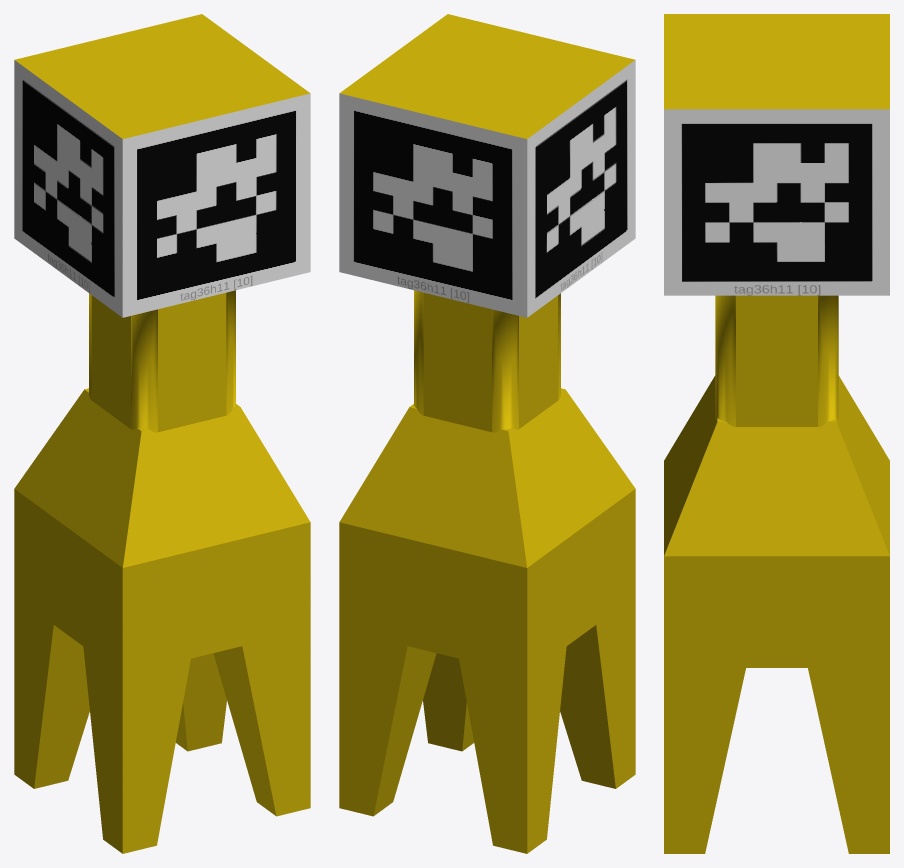
The model's file is Creeper.dae.
3 views of the same model, side by side, from view 1: azimuth 30°, elevation 25°; view 2: azimuth 150°, elevation 25°; view 3: azimuth 270°, elevation 25° (orthographic). The views are drawn at different scales.
Visible parts, largest first — view 1: NovoCreeperV3 v1; view 2: NovoCreeperV3 v1; view 3: NovoCreeperV3 v1.
Part boxes in pixels (box(x1,y1,x2,y2)): NovoCreeperV3 v1: box(14, 14, 310, 853); NovoCreeperV3 v1: box(339, 14, 635, 853); NovoCreeperV3 v1: box(664, 14, 889, 853).
Size of the model in its own units: 5.5 by 5.5 by 20.
Materials: 2 (1 with a texture image).
